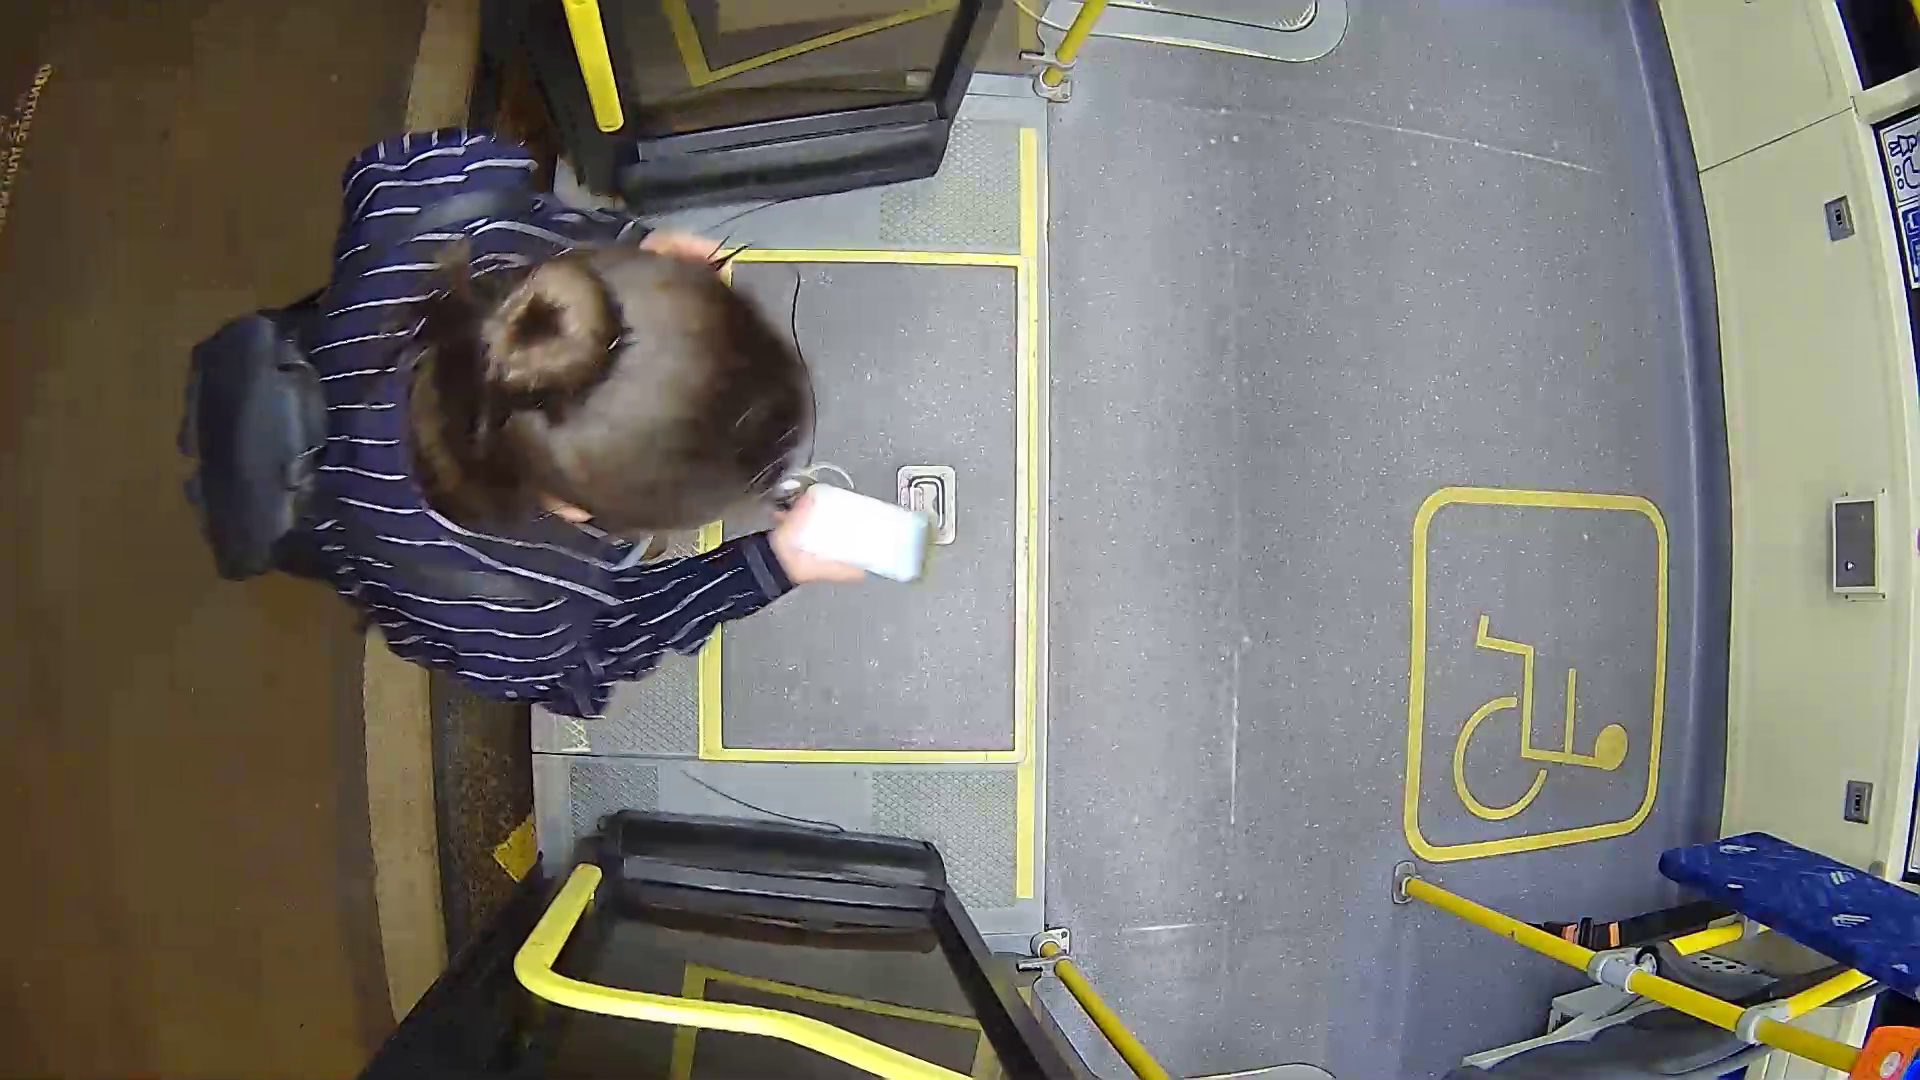person: (197, 149, 906, 709)
